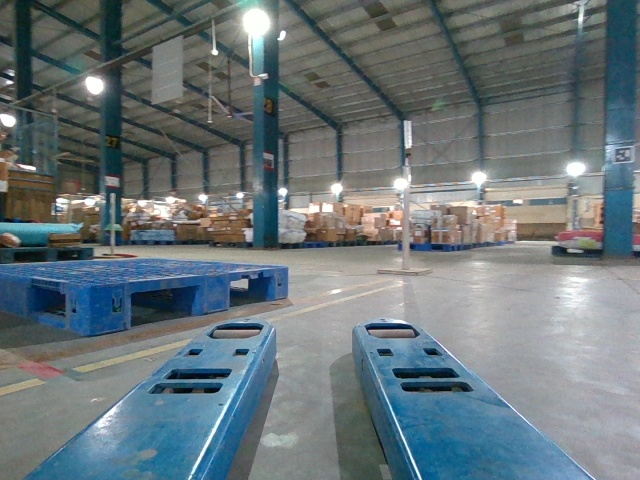block: (88, 282, 131, 334), (194, 274, 234, 312), (270, 265, 289, 298)
front: (90, 267, 288, 335)
hole pallet: (131, 284, 198, 328), (230, 276, 275, 308)
